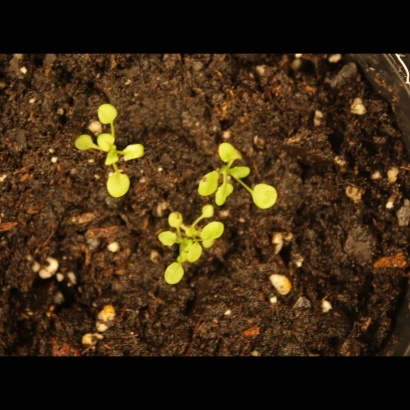leaf: (248, 178, 285, 218), (103, 169, 137, 204), (118, 137, 152, 166), (200, 219, 228, 254), (196, 166, 222, 199), (215, 172, 238, 207), (217, 138, 249, 163), (72, 130, 100, 155), (96, 99, 120, 128), (161, 261, 187, 287), (152, 227, 178, 250), (229, 159, 254, 182), (94, 130, 117, 153), (101, 148, 124, 171), (164, 208, 187, 231), (184, 242, 207, 265), (195, 199, 218, 222)
